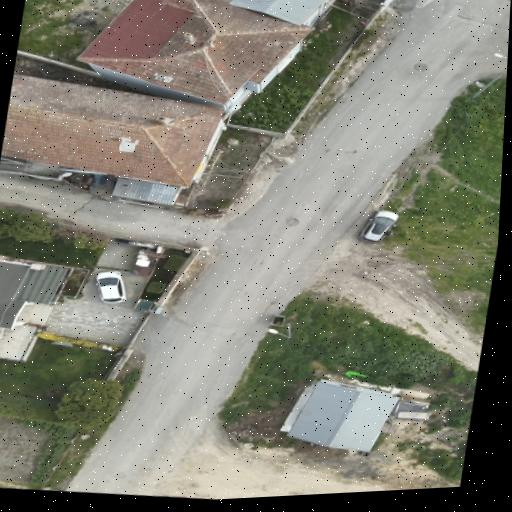car: (360, 210, 399, 243), (96, 272, 126, 303)
